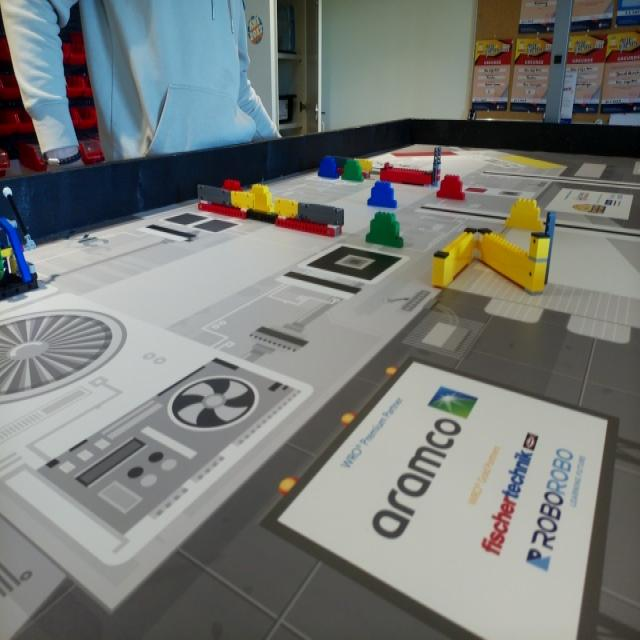blau: (369, 181, 399, 209), (320, 159, 338, 179)
gruen: (368, 214, 403, 249), (344, 162, 366, 184)
rot: (437, 175, 465, 202), (223, 179, 243, 190)
yellow: (507, 199, 542, 232), (253, 184, 272, 210)
